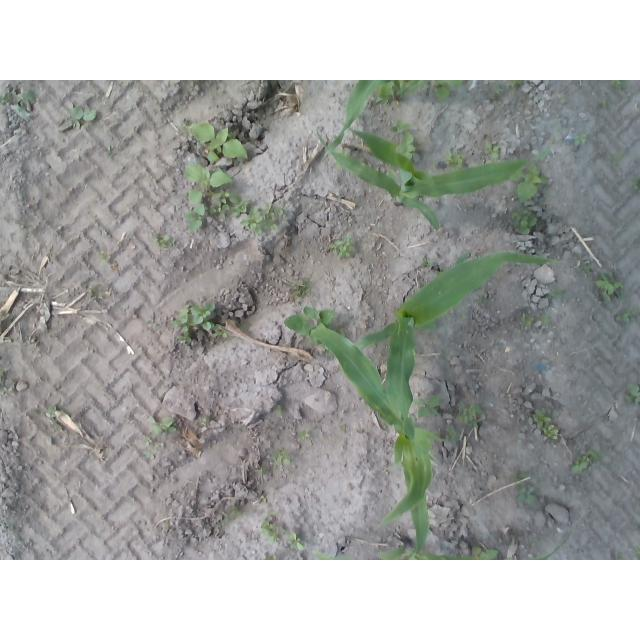Maize: (354, 249, 559, 468), (308, 324, 444, 561), (318, 122, 559, 233), (322, 80, 431, 158), (311, 534, 574, 560)
Weeds: (184, 164, 251, 233), (283, 307, 347, 354), (181, 120, 249, 164), (172, 302, 229, 345), (508, 161, 548, 204), (240, 203, 284, 235), (0, 89, 38, 121), (594, 271, 626, 302), (530, 406, 558, 440), (60, 106, 97, 130), (260, 510, 286, 542), (395, 131, 421, 162), (515, 472, 538, 504), (570, 450, 599, 475), (508, 210, 537, 235), (457, 402, 484, 428), (411, 395, 441, 418), (146, 415, 177, 436), (434, 80, 463, 101), (218, 503, 242, 526), (329, 237, 355, 258), (288, 279, 312, 299), (615, 306, 640, 325), (622, 382, 640, 407), (48, 403, 64, 430), (444, 151, 464, 172), (144, 437, 162, 459), (474, 546, 499, 560), (287, 532, 306, 550), (484, 139, 501, 159), (270, 450, 290, 466), (390, 119, 411, 134), (335, 148, 350, 168), (151, 234, 173, 247), (443, 425, 457, 443), (574, 259, 592, 273), (520, 312, 535, 328), (490, 84, 504, 101), (574, 131, 590, 145), (453, 252, 471, 264), (507, 80, 525, 90), (612, 80, 629, 90), (547, 288, 561, 300), (89, 285, 99, 301), (298, 428, 311, 440), (630, 548, 640, 561), (633, 178, 640, 193), (612, 155, 622, 165), (259, 465, 269, 475), (479, 295, 489, 305), (421, 257, 431, 267), (0, 386, 12, 394), (540, 316, 550, 325), (275, 405, 283, 415), (0, 370, 6, 382), (264, 556, 277, 561), (600, 99, 608, 107), (200, 417, 208, 425), (150, 322, 158, 330), (101, 254, 108, 263), (458, 313, 466, 320), (339, 423, 345, 429), (559, 98, 565, 103), (261, 494, 266, 499)
